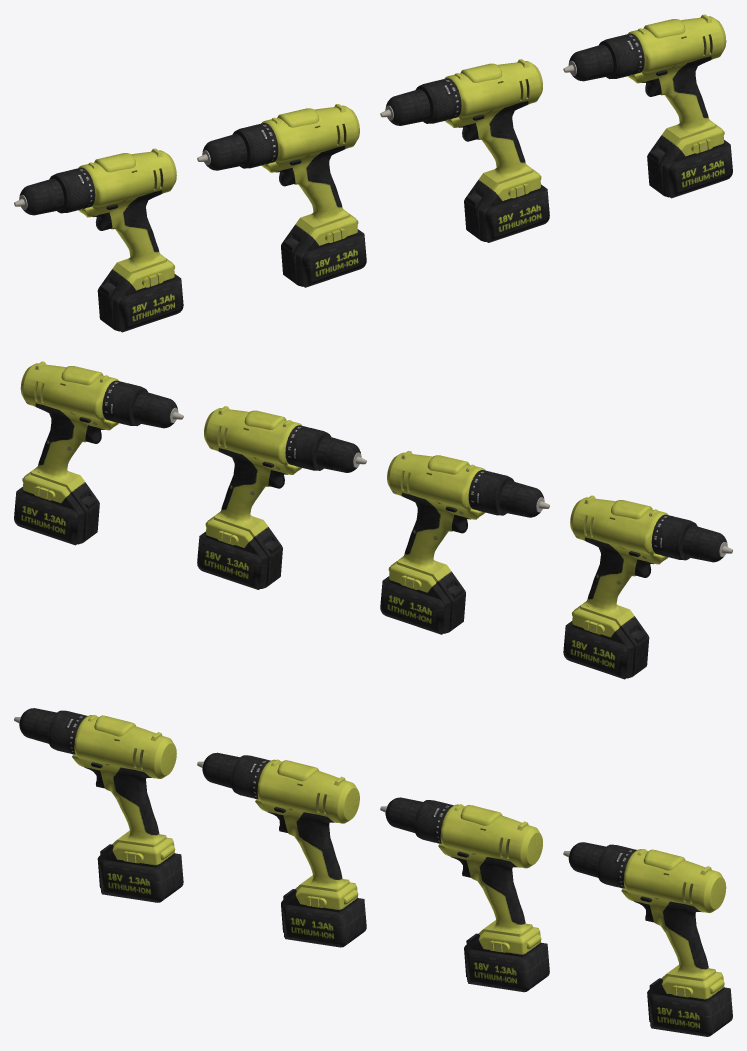
Rendered from stock_power_drills_row.glb.
3 views of the same model, one above another, from view 1: azimuth 30°, elevation 25°; view 2: azimuth 150°, elevation 25°; view 3: azimuth 330°, elevation 25° (orthographic).
Parts seen in each view (by area): view 1: Drill_01, Drill_01.001, Drill_01.003, Drill_01.002; view 2: Drill_01, Drill_01.001, Drill_01.002, Drill_01.003; view 3: Drill_01.001, Drill_01.002, Drill_01.003, Drill_01.
Part boxes in pixels (bbox=[...]): Drill_01: bbox=[14, 148, 183, 332]; Drill_01.001: bbox=[197, 104, 366, 287]; Drill_01.003: bbox=[563, 14, 732, 198]; Drill_01.002: bbox=[380, 59, 549, 242]; Drill_01: bbox=[563, 495, 732, 679]; Drill_01.001: bbox=[380, 451, 549, 634]; Drill_01.002: bbox=[197, 406, 366, 589]; Drill_01.003: bbox=[14, 361, 183, 545]; Drill_01.001: bbox=[197, 752, 366, 947]; Drill_01.002: bbox=[380, 797, 549, 992]; Drill_01.003: bbox=[563, 842, 732, 1036]; Drill_01: bbox=[14, 708, 183, 902].
Bounding box in the file's own units: 1.24 × 0.28 × 0.0793.
4 materials, 4 textured.
